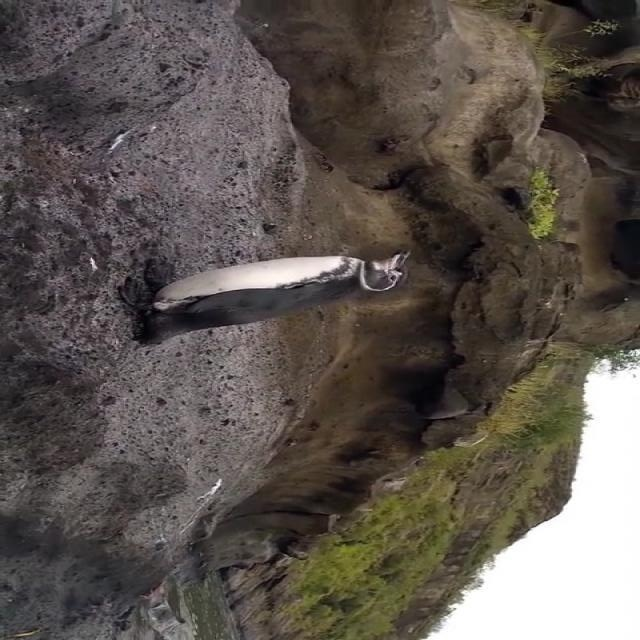penguin: (121, 248, 414, 351)
